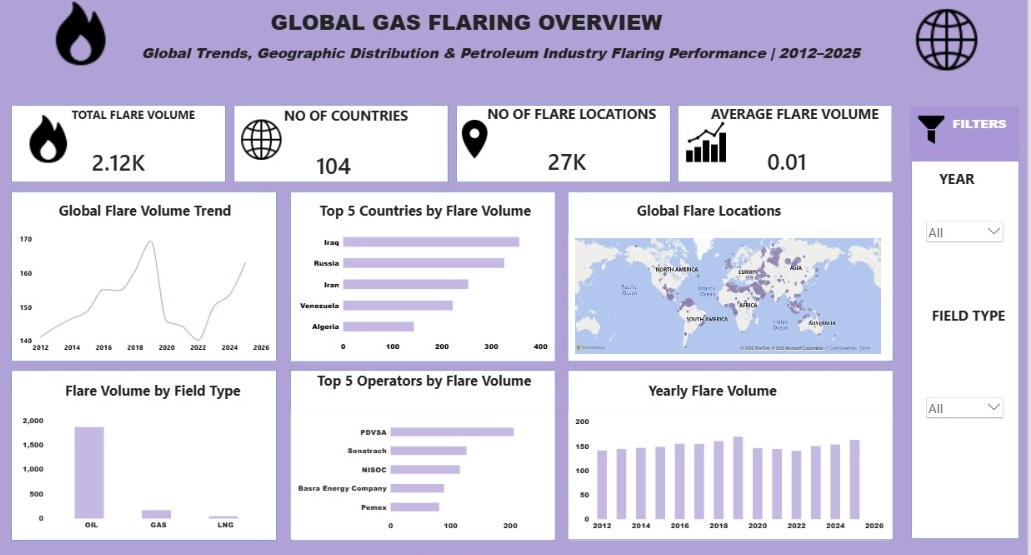

This screenshot's page, from the dashboard's own definition file:
{"tool":"powerbi","page":{"name":"Page 1","canvas":[2400,1300],"ordinal":0},"visuals":[{"type":"shape","box":[67.3,255.1,492.5,177.2],"z":0},{"type":"shape","box":[705.1,453.5,609.5,391.2],"z":1000},{"type":"shape","box":[67.3,864.6,609.5,391.2],"z":2000},{"type":"shape","box":[66.1,453.8,608.9,390.6],"z":3000},{"type":"shape","box":[705.1,864.6,609.5,391.2],"z":4000},{"type":"shape","box":[1342.9,453.5,747.6,389.8],"z":5000},{"type":"shape","box":[1342.9,864.6,747.6,389.8],"z":6000},{"type":"shape","box":[1087.8,255.1,492.5,177.2],"z":7000},{"type":"shape","box":[577.6,255.1,492.5,177.2],"z":8000},{"type":"shape","box":[1598,255.1,492.5,177.2],"z":9000},{"type":"shape","box":[2133.5,347.5,247,904.7],"z":10000},{"type":"textbox","box":[365,113.4,1764.6,85],"z":11000},{"type":"textbox","box":[0,28.3,2398.8,85],"z":12000},{"type":"cardVisual","fields":{"Data":["Table2_1.Total Flare Volume"]},"box":[67.3,329.5,492.5,109.8],"z":13000},{"type":"textbox","box":[175.2,258.5,402.1,71.8],"z":14000},{"type":"cardVisual","fields":{"Data":["Table2_1.Number of Countries"]},"box":[559.8,350.8,492.5,85],"z":15000},{"type":"cardVisual","fields":{"Data":["Table2_1.Number of Flare Locations"]},"box":[1097.1,330.3,491.1,106.3],"z":16000},{"type":"cardVisual","fields":{"Data":["Table2_1.Average Flare Volume"]},"box":[1601.6,329.5,491.1,106.3],"z":17000},{"type":"textbox","box":[577.6,255.1,492.5,74.4],"z":18000},{"type":"textbox","box":[1070.1,251.6,528,74.4],"z":19000},{"type":"textbox","box":[1619.3,251.6,513.8,92.1],"z":20000},{"type":"slicer","fields":{"Values":["Table2_1.Year"]},"box":[2162.6,516.9,186.7,132.1],"z":21000},{"type":"slicer","box":[2162.6,786.9,186.7,8.6],"z":22000},{"type":"slicer","fields":{"Values":["Table2_1.Field Type"]},"box":[2162.6,921.9,186.7,166.6],"z":23000},{"type":"textbox","box":[2162.6,402.1,212.5,51.7],"z":24000},{"type":"textbox","box":[2136.7,715.1,238.4,80.4],"z":25000},{"type":"lineChart","fields":{"Y":["Sum(Table2_1.Flare Volume)"],"Category":["Table2_1.Year"]},"box":[68.9,537.1,606,307.3],"z":26000},{"type":"textbox","box":[712.2,473.9,603.1,63.2],"z":27000},{"type":"textbox","box":[68.9,473.9,608.9,63.2],"z":28000},{"type":"clusteredBarChart","fields":{"Category":["Table2_1.Country"],"Y":["Sum(Table2_1.Flare Volume)"]},"box":[712.2,517.3,602.4,326],"z":29000},{"type":"map","fields":{"Y":["Table2_1.Latitude"],"X":["Table2_1.Longitude"],"Size":["Sum(Table2_1.Flare Volume)"]},"box":[1344.1,545.7,738.1,298.7],"z":30000},{"type":"textbox","box":[1344.1,473.9,746.7,63.2],"z":31000},{"type":"clusteredColumnChart","fields":{"Y":["Sum(Table2_1.Flare Volume)"],"Category":["Table2_1.Field Type"]},"box":[74.7,953.5,600.2,298.7],"z":32000},{"type":"textbox","box":[74.7,887.4,580.1,66.1],"z":33000},{"type":"clusteredBarChart","fields":{"Category":["Table2_1.Operator"],"Y":["Sum(Table2_1.Flare Volume)"]},"box":[706.5,956.4,608.9,298.7],"z":34000},{"type":"textbox","box":[706.5,864.5,608.9,91.9],"z":35000},{"type":"clusteredColumnChart","fields":{"Y":["Sum(Table2_1.Flare Volume)"],"Category":["Table2_1.Year"]},"box":[1344.1,956.4,743.8,298.7],"z":36000},{"type":"textbox","box":[1335.5,887.4,712.2,60.3],"z":37000},{"type":"shape","box":[2131,258.5,249.9,126.4],"z":38000},{"type":"textbox","box":[2228.6,278.6,146.5,66.1],"z":39000},{"type":"image","box":[2145.3,275.7,68.9,71.8],"z":40000},{"type":"image","box":[1056.9,287.2,146.5,91.9],"z":41000},{"type":"image","box":[577.3,284.3,126.4,100.5],"z":42000},{"type":"image","box":[2105.1,28.7,219.7,152.4],"z":43000},{"type":"image","box":[1591,290.6,141.7,95.7],"z":44000},{"type":"image","box":[74.7,275.7,152.2,114.9],"z":45000},{"type":"image","box":[149.3,0,152.2,180.9],"z":46000}]}

Visuals, with their boxes in screenshot pixels (x1, y1, x2, y2), scaled from the page's 2400x1300 canvas onto the 1031x555 screenshot:
shape: left=29, top=109, right=240, bottom=185
shape: left=303, top=194, right=565, bottom=361
shape: left=29, top=369, right=291, bottom=536
shape: left=28, top=194, right=290, bottom=360
shape: left=303, top=369, right=565, bottom=536
shape: left=577, top=194, right=898, bottom=360
shape: left=577, top=369, right=898, bottom=536
shape: left=467, top=109, right=679, bottom=185
shape: left=248, top=109, right=460, bottom=185
shape: left=686, top=109, right=898, bottom=185
shape: left=917, top=148, right=1023, bottom=535
textbox: left=157, top=48, right=915, bottom=85
textbox: left=0, top=12, right=1030, bottom=48
cardVisual - Table2_1.Total Flare Volume: left=29, top=141, right=240, bottom=188
textbox: left=75, top=110, right=248, bottom=141
cardVisual - Table2_1.Number of Countries: left=240, top=150, right=452, bottom=186
cardVisual - Table2_1.Number of Flare Locations: left=471, top=141, right=682, bottom=186
cardVisual - Table2_1.Average Flare Volume: left=688, top=141, right=899, bottom=186
textbox: left=248, top=109, right=460, bottom=141
textbox: left=460, top=107, right=687, bottom=139
textbox: left=696, top=107, right=916, bottom=147
slicer - Table2_1.Year: left=929, top=221, right=1009, bottom=277
slicer: left=929, top=336, right=1009, bottom=340
slicer - Table2_1.Field Type: left=929, top=394, right=1009, bottom=465
textbox: left=929, top=172, right=1020, bottom=194
textbox: left=918, top=305, right=1020, bottom=340
lineChart - Sum(Table2_1.Flare Volume) x Table2_1.Year: left=30, top=229, right=290, bottom=360
textbox: left=306, top=202, right=565, bottom=229
textbox: left=30, top=202, right=291, bottom=229
clusteredBarChart - Table2_1.Country x Sum(Table2_1.Flare Volume): left=306, top=221, right=565, bottom=360
map - Table2_1.Latitude x Table2_1.Longitude: left=577, top=233, right=894, bottom=360
textbox: left=577, top=202, right=898, bottom=229
clusteredColumnChart - Sum(Table2_1.Flare Volume) x Table2_1.Field Type: left=32, top=407, right=290, bottom=535
textbox: left=32, top=379, right=281, bottom=407
clusteredBarChart - Table2_1.Operator x Sum(Table2_1.Flare Volume): left=304, top=408, right=565, bottom=536
textbox: left=304, top=369, right=565, bottom=408
clusteredColumnChart - Sum(Table2_1.Flare Volume) x Table2_1.Year: left=577, top=408, right=897, bottom=536
textbox: left=574, top=379, right=880, bottom=405
shape: left=915, top=110, right=1023, bottom=164
textbox: left=957, top=119, right=1020, bottom=147
image: left=922, top=118, right=951, bottom=148
image: left=454, top=123, right=517, bottom=162
image: left=248, top=121, right=302, bottom=164
image: left=904, top=12, right=999, bottom=77
image: left=683, top=124, right=744, bottom=165
image: left=32, top=118, right=97, bottom=167
image: left=64, top=0, right=130, bottom=77
